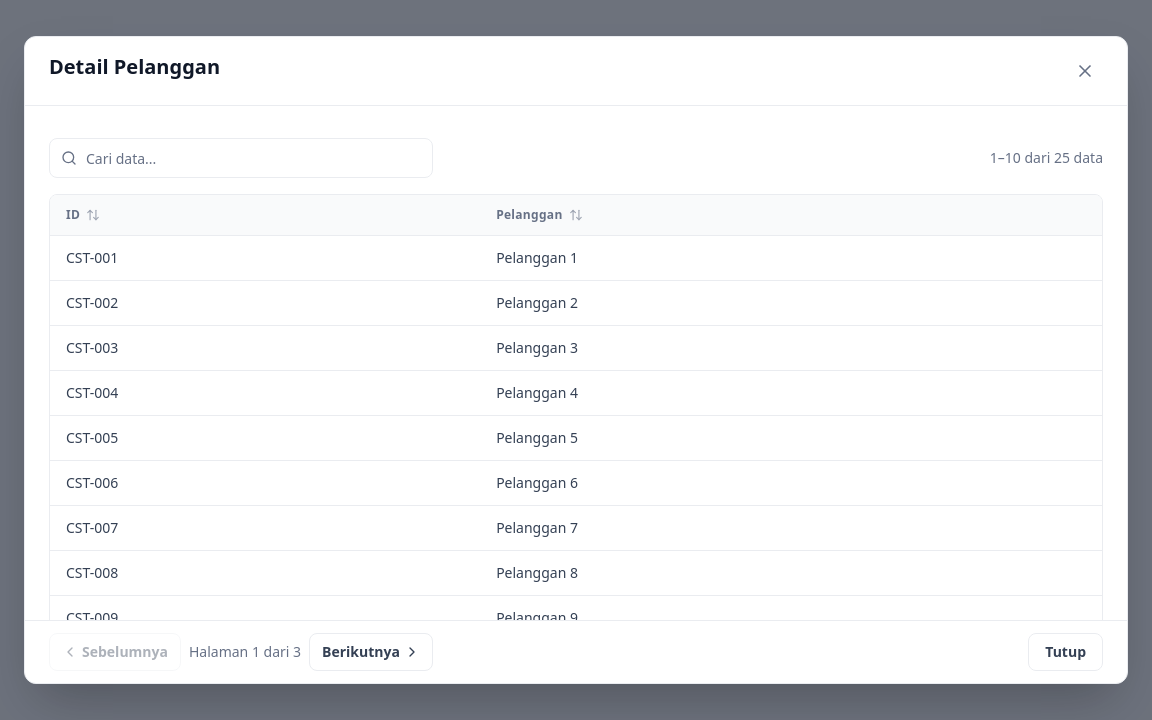
DetailTableModal pagination › shows ten rows and moves through all result pages
Expected: the text "CST-011" is not shown
What coordinates should you click on to do the following:
click the button with aria-label "Halaman berikutnya"
I would click on:
 (371, 652)
Its box is [309,633,433,671].
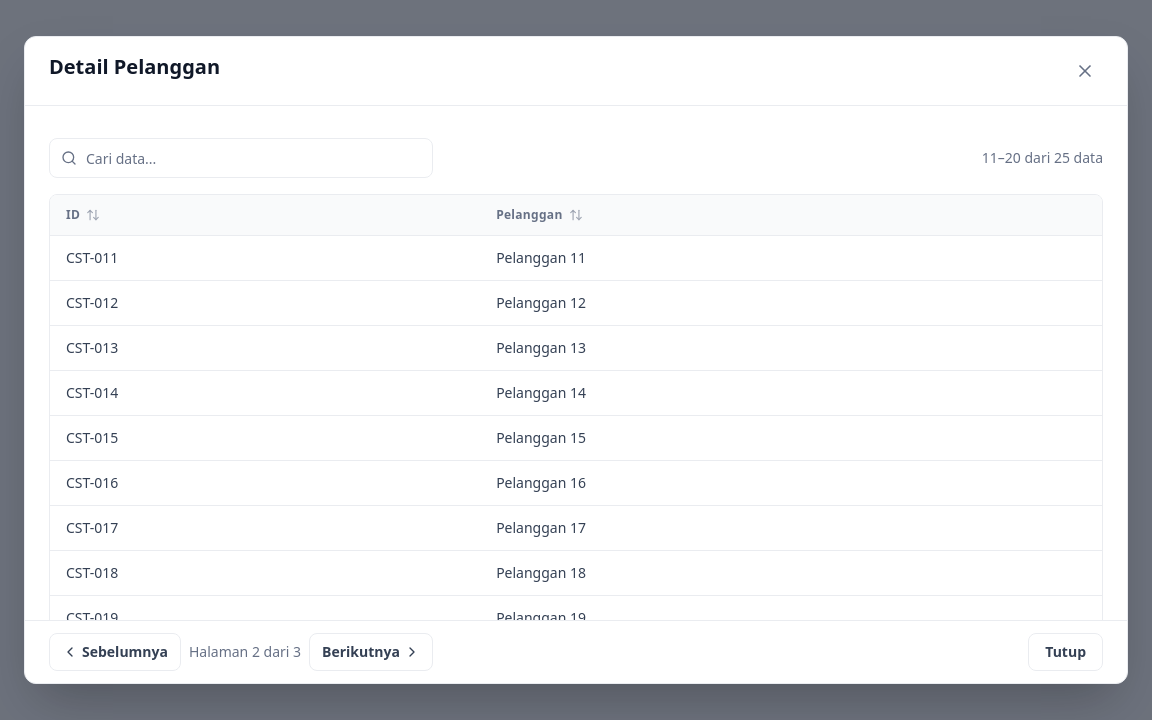
Expected: the text "CST-010" is not shown
Expected: the text "Halaman 2 dari 3" is shown, [189,642,301,662]
Expected: the text "CST-011" is shown, [66,248,118,267]
What coordinates should you click on to do the following:
click the button with aria-label "Halaman berikutnya"
I would click on:
 (371, 652)
Its box is [309,633,433,671].
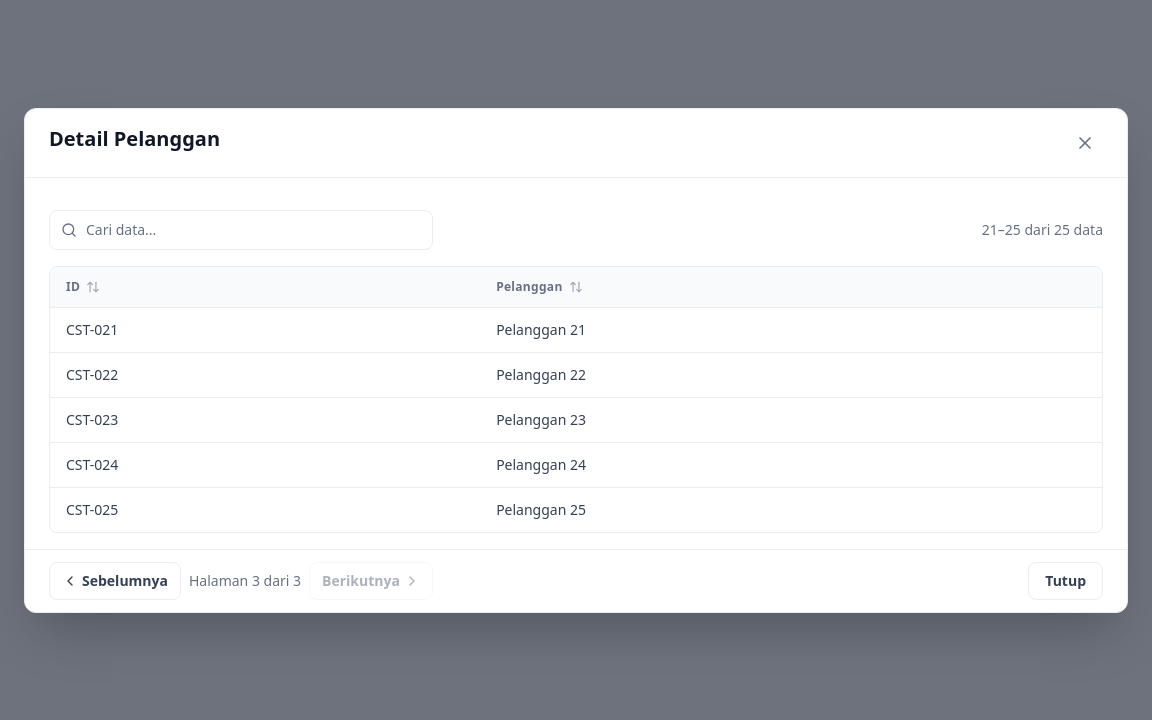
Expected: the text "21–25 dari 25 data" is shown, [982,220,1103,240]
Expected: the text "CST-025" is shown, [66,500,118,518]
Expected: the button with aria-label "Halaman berikutnya" is disabled, [309,562,433,600]
